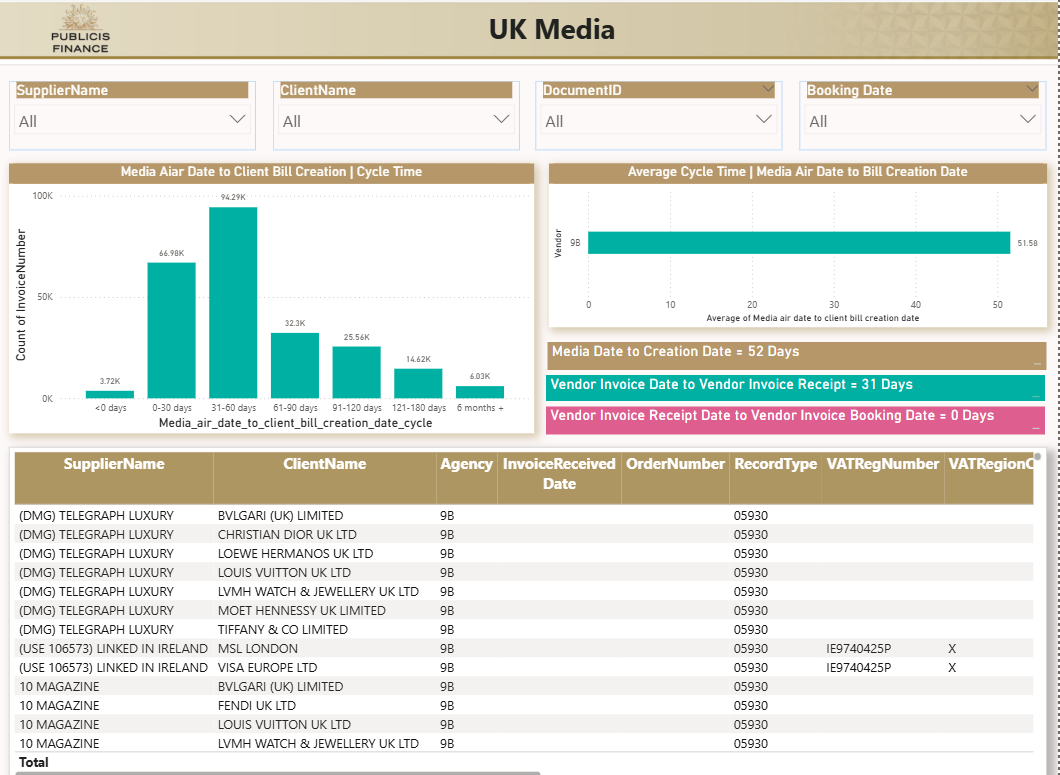

What the dashboard file says about the page in this screenshot:
{"tool":"powerbi","page":{"name":"UK Media Billing Cycle Time","canvas":[1230,910],"ordinal":0},"visuals":[{"type":"image","box":[0,0,1500,78.7],"z":0,"group":"g1"},{"type":"tableEx","fields":{"Values":["HARP Supplier.SupplierName","HARP Client.ClientName","HARP VendorInvoiceMaster.Agency","HARP VendorInvoiceMaster.InvoiceReceivedDate","HARP VendorInvoiceMaster.OrderNumber","HARP VendorInvoiceMaster.RecordType","HARP VendorInvoiceMaster.VATRegNumber","HARP VendorInvoiceMaster.VATRegionCode","HARP VendorInvoiceMaster.CurrencyCode","HARP VendorInvoiceMaster.Amount","HARP Buy.SupplierID","HARP Buy.Media air date to client bill creation date"]},"box":[17.3,520.3,1200.3,390.3],"z":0},{"type":"group","id":"g1","title":"Group 1","box":[0,0,1500,78.7],"z":1000},{"type":"textbox","box":[525.5,8.7,248,69.4],"z":1000,"group":"g1"},{"type":"columnChart","title":"Media Aiar Date to Client Bill Creation | Cycle Time","fields":{"Category":["HARP Buy.Media_air_date_to_client_bill_creation_date_cycle"],"Y":["HARP VendorInvoiceMaster.InvoiceNumber"]},"box":[17.3,192.5,607.1,312.2],"z":2000},{"type":"barChart","title":"Average Cycle Time | Media Air Date to Bill Creation Date","fields":{"Category":["HARP Buy_VendorInvoice_Link.Agency"],"Y":["HARP Buy.Media air date to client bill creation date"]},"box":[641.8,192.5,575.8,189.1],"z":3000},{"type":"slicer","title":"Vendor Name","fields":{"Values":["HARP Supplier.SupplierName"]},"box":[17.3,96.8,285,80],"z":4000},{"type":"slicer","title":"Vendor Name","fields":{"Values":["HARP Client.ClientName"]},"box":[322.1,97.2,285,80],"z":5000},{"type":"slicer","title":"Vendor Name","fields":{"Values":["HARP VendorInvoiceMaster.DocumentID"]},"box":[626.9,96.7,285,80],"z":6000},{"type":"slicer","title":"Vendor Name","fields":{"Values":["HARP VendorInvoiceMaster.AddedDate"]},"box":[931.7,96.7,285,80],"z":7000},{"type":"textbox","box":[639.2,398.9,575.8,31.2],"z":8000},{"type":"textbox","box":[638.3,437.1,575.8,29.5],"z":9000},{"type":"textbox","box":[638.3,473.5,575.8,31.2],"z":10000}]}

Visuals, with their boxes in screenshot pixels (x1, y1, x2, y2), scaled from the page's 1230x910 canvas onto the 1060x775 screenshot:
image: detection(0, 0, 1059, 67)
tableEx - HARP Supplier.SupplierName x HARP Client.ClientName: detection(15, 443, 1049, 774)
"Group 1" group: detection(0, 0, 1059, 67)
textbox: detection(453, 7, 667, 67)
"Media Aiar Date to Client Bill Creation | Cycle Time" columnChart: detection(15, 164, 538, 430)
"Average Cycle Time | Media Air Date to Bill Creation Date" barChart: detection(553, 164, 1049, 325)
"Vendor Name" slicer: detection(15, 82, 261, 151)
"Vendor Name" slicer: detection(278, 83, 523, 151)
"Vendor Name" slicer: detection(540, 82, 786, 150)
"Vendor Name" slicer: detection(803, 82, 1049, 150)
textbox: detection(551, 340, 1047, 366)
textbox: detection(550, 372, 1046, 397)
textbox: detection(550, 403, 1046, 430)
